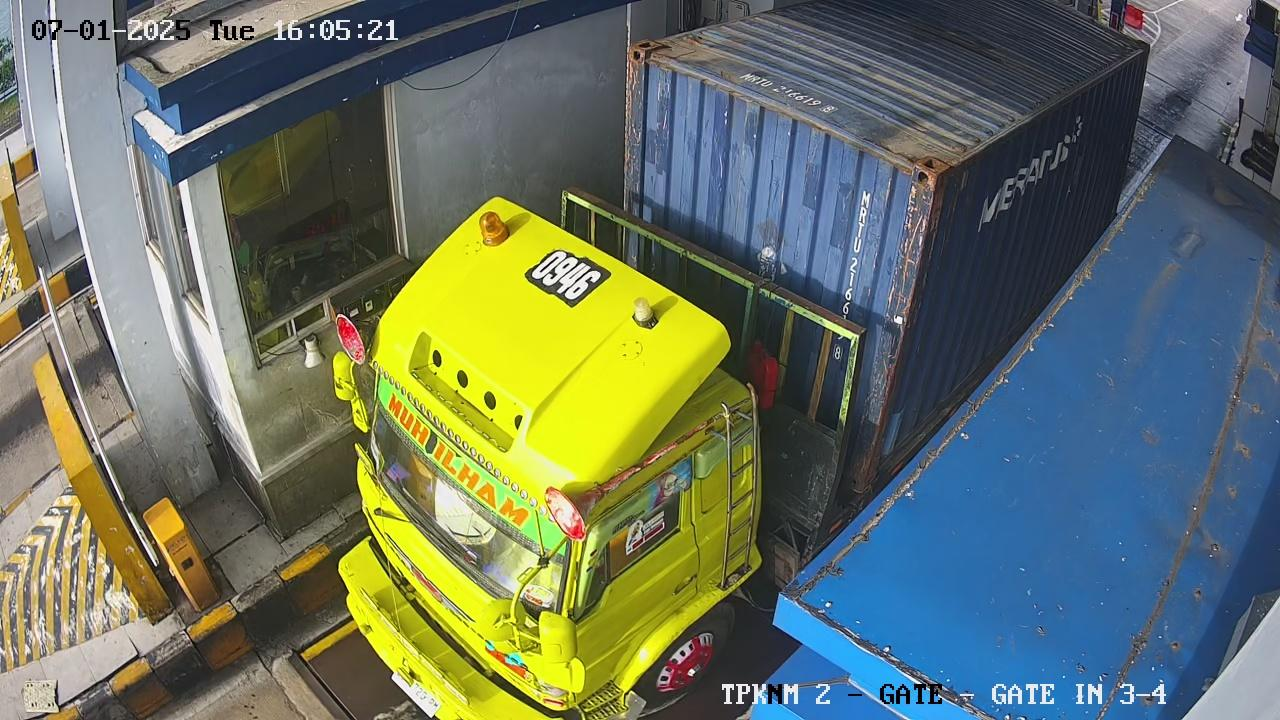Container_ID: (732, 70, 839, 122)
Container_ID_Vertikal: (823, 184, 877, 371)
truck_id: (526, 249, 610, 307)
